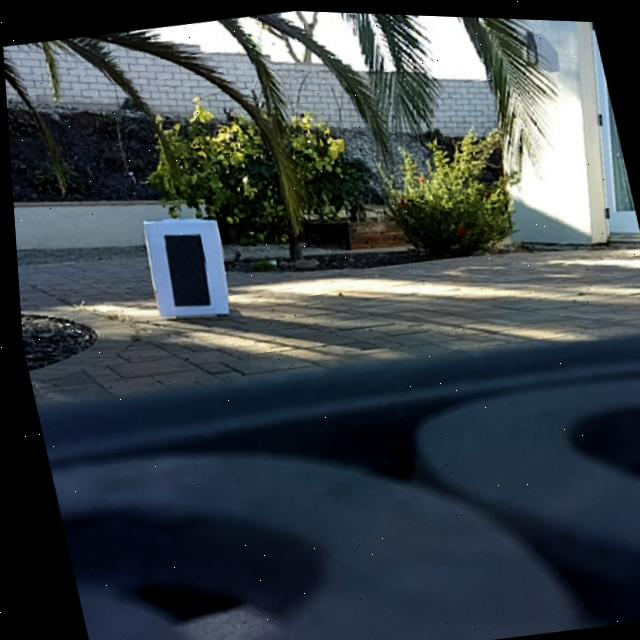led: (157, 227, 211, 309)
